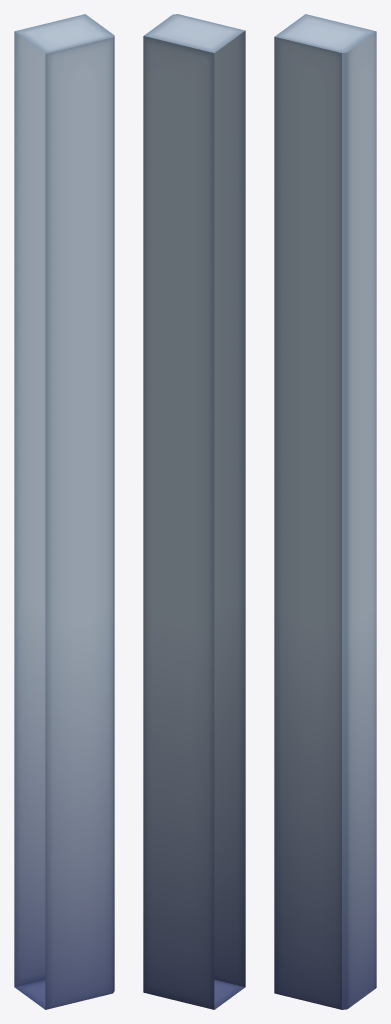
Rendered from wall3_left_low.fbx.
3 renders of one model, left to right at view 1: azimuth 30°, elevation 25°; view 2: azimuth 150°, elevation 25°; view 3: azimuth 330°, elevation 25°, orthographic.
Parts seen in each view (by area): view 1: left_wall_low; view 2: left_wall_low; view 3: left_wall_low.
Boxes of the visible parts, bbox=[...] form: left_wall_low: bbox=[14, 14, 114, 1009]; left_wall_low: bbox=[143, 14, 245, 1009]; left_wall_low: bbox=[274, 14, 376, 1009].
Size of the model in its own units: 202 by 2600 by 153.
